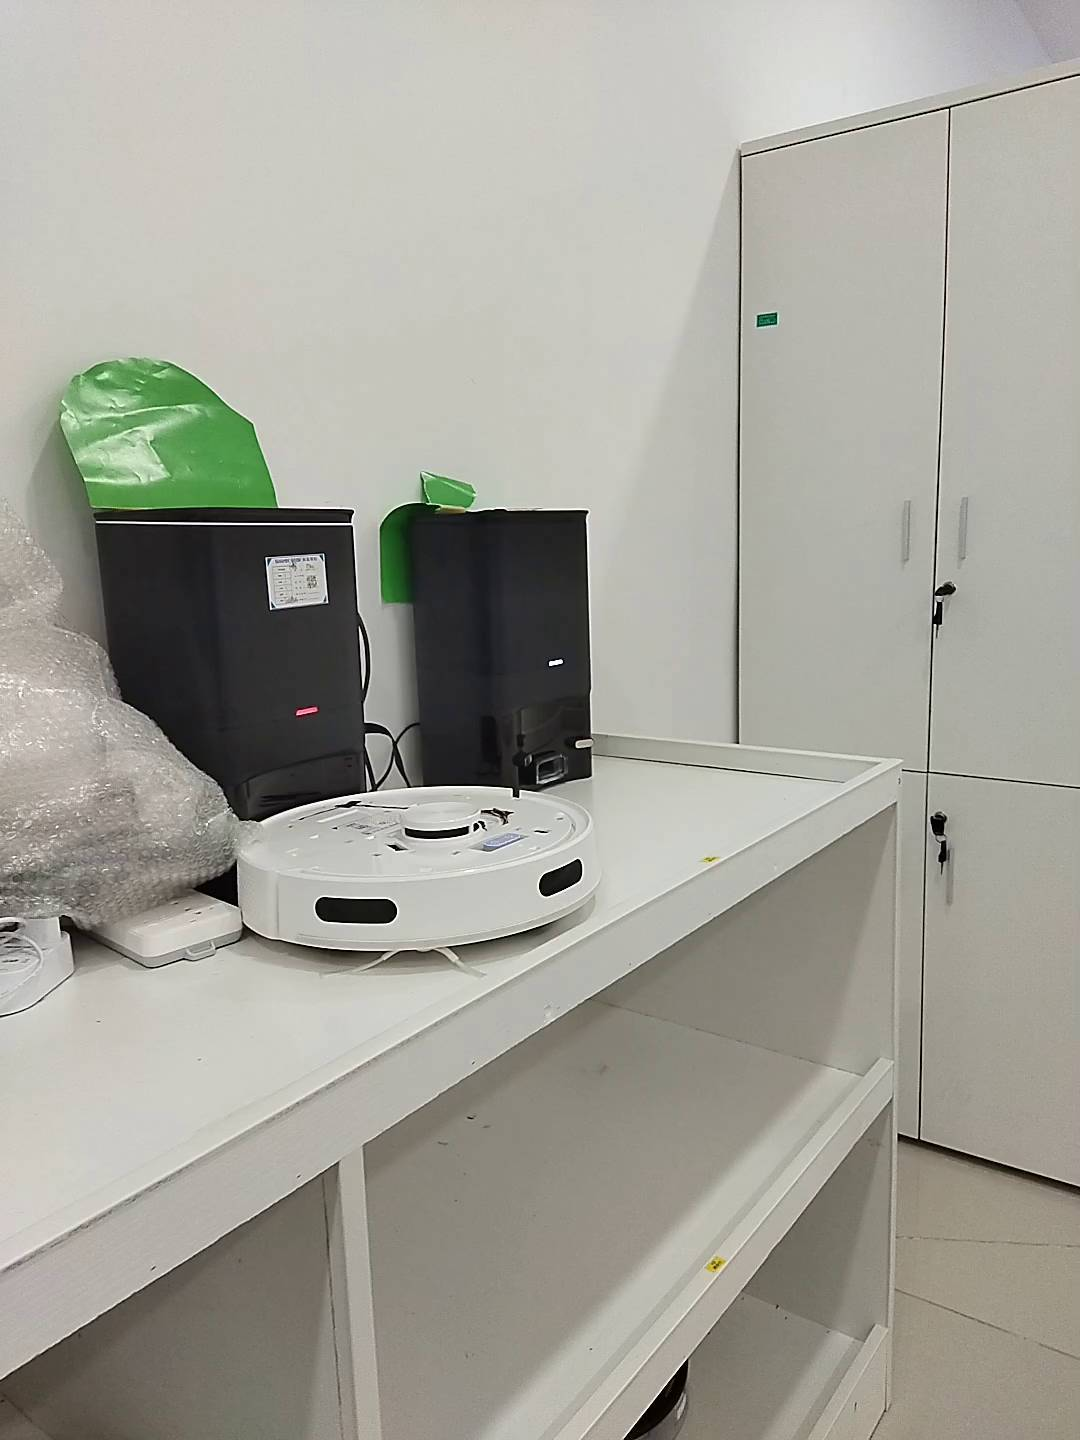dust collecting barrel: (93, 507, 373, 823), (406, 507, 601, 791)
